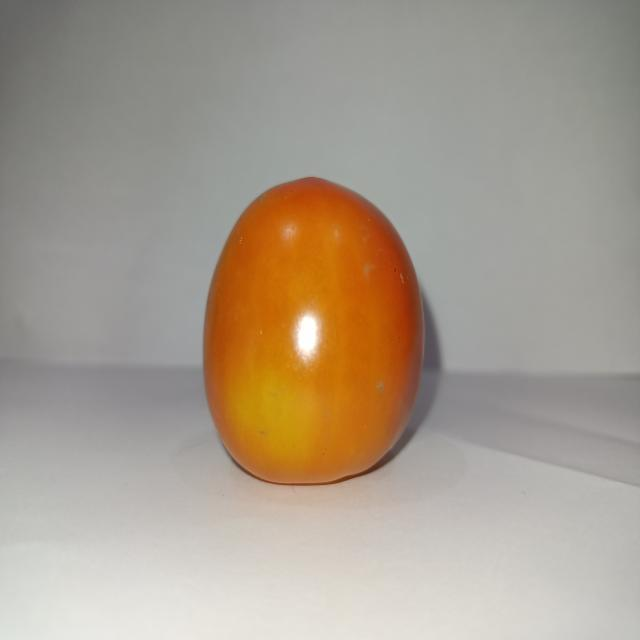Red: (201, 174, 426, 486)
